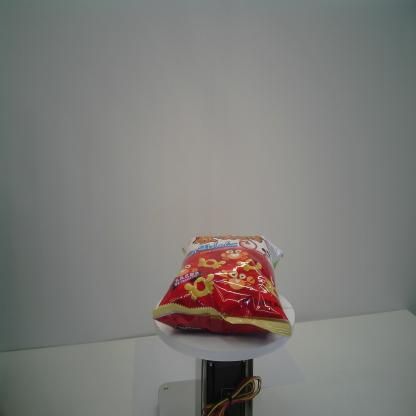Puffed Food: (153, 233, 292, 342)
